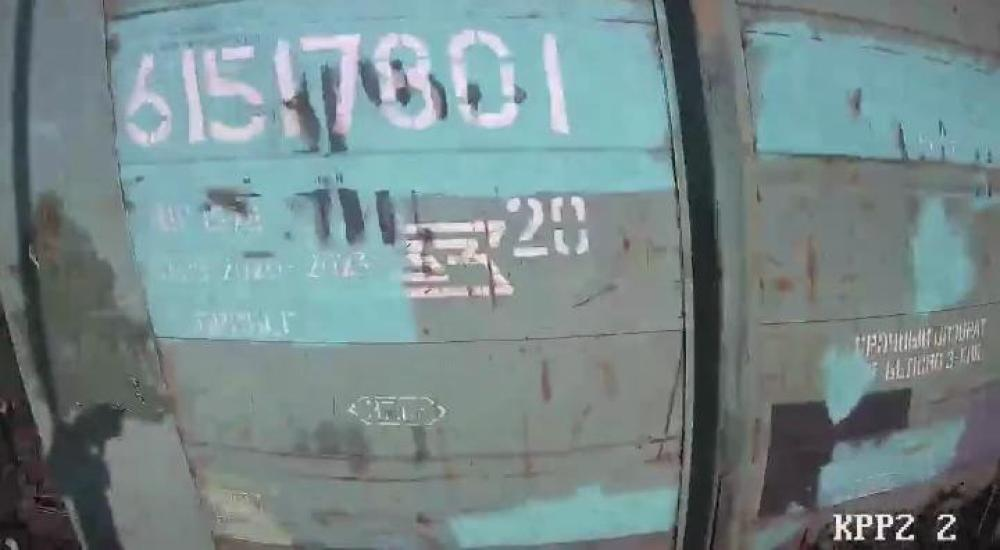Wagon-number: (116, 30, 574, 143)
